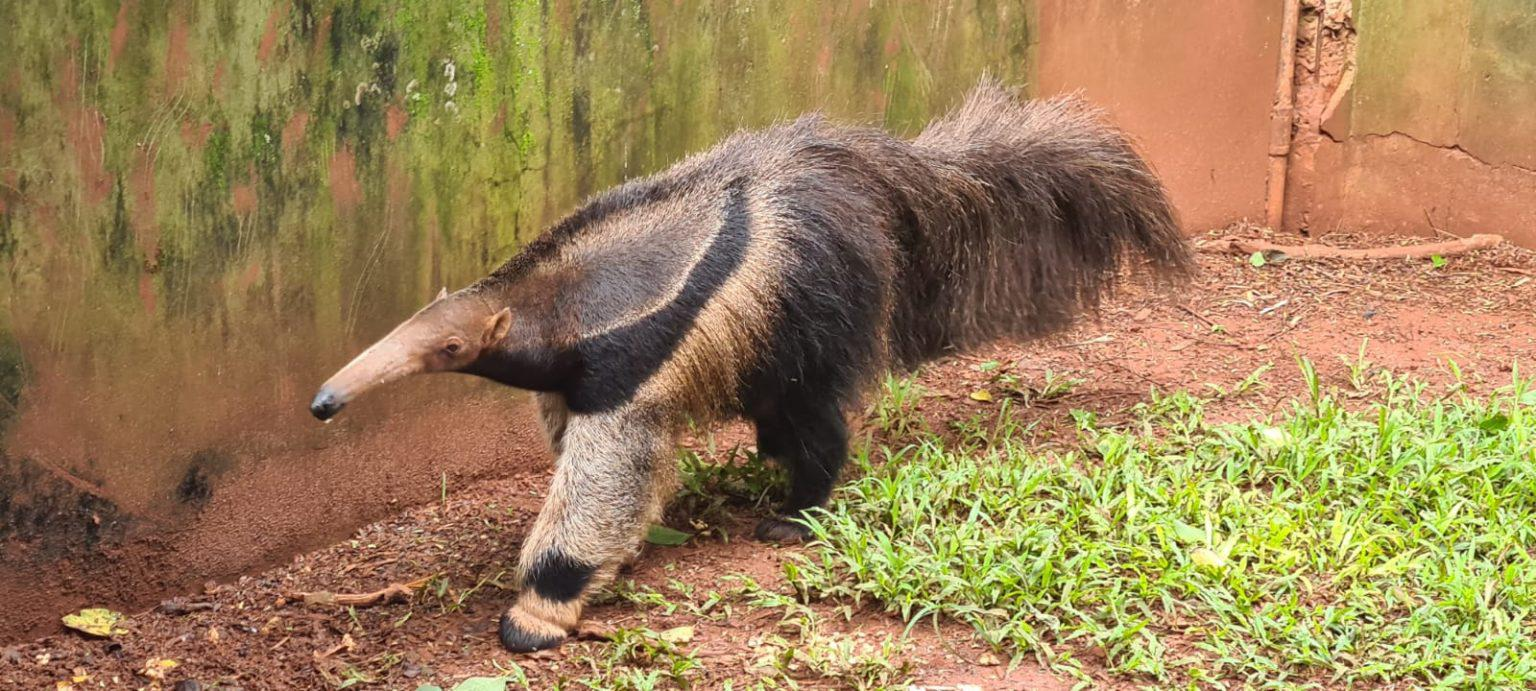TamanduaBandeira: (288, 81, 1188, 666)
